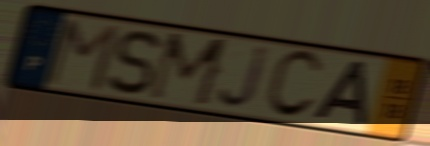A: (310, 58, 371, 129)
C: (262, 48, 326, 122)
J: (215, 44, 272, 113)
M: (145, 30, 234, 110), (41, 17, 123, 95)
S: (104, 28, 164, 98)
